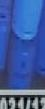cylinder: (1, 1, 45, 109)
